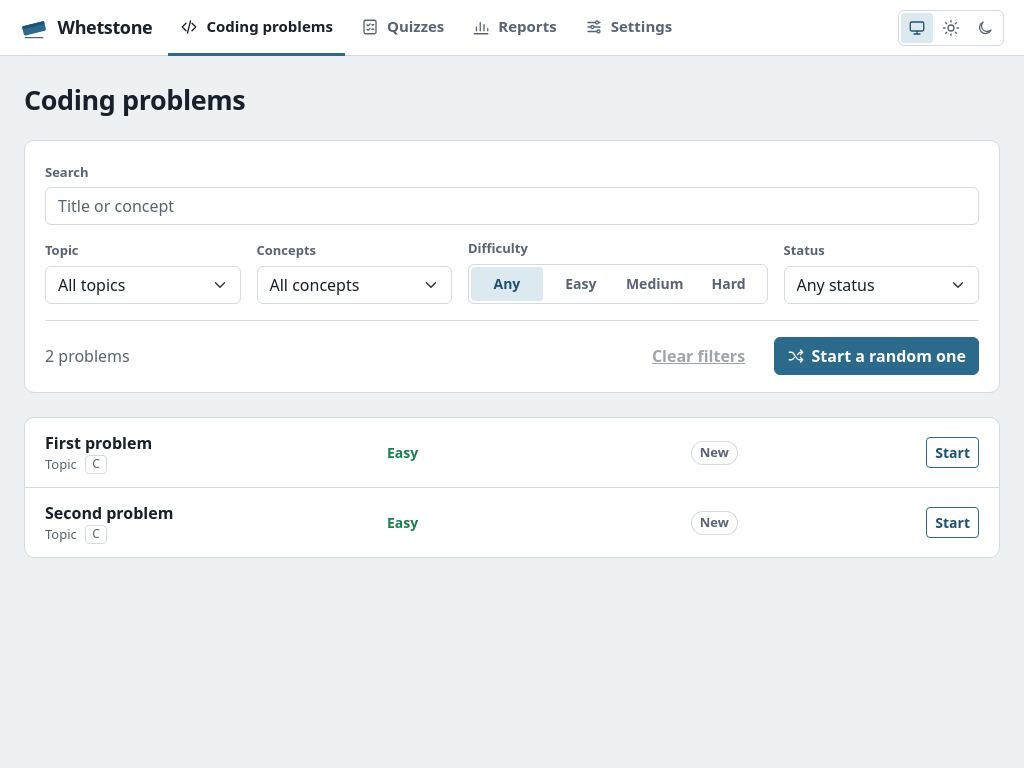
App › shows the output of a run
Click the button with aria-label "Start First problem": [953, 453] box [926,437,979,468]
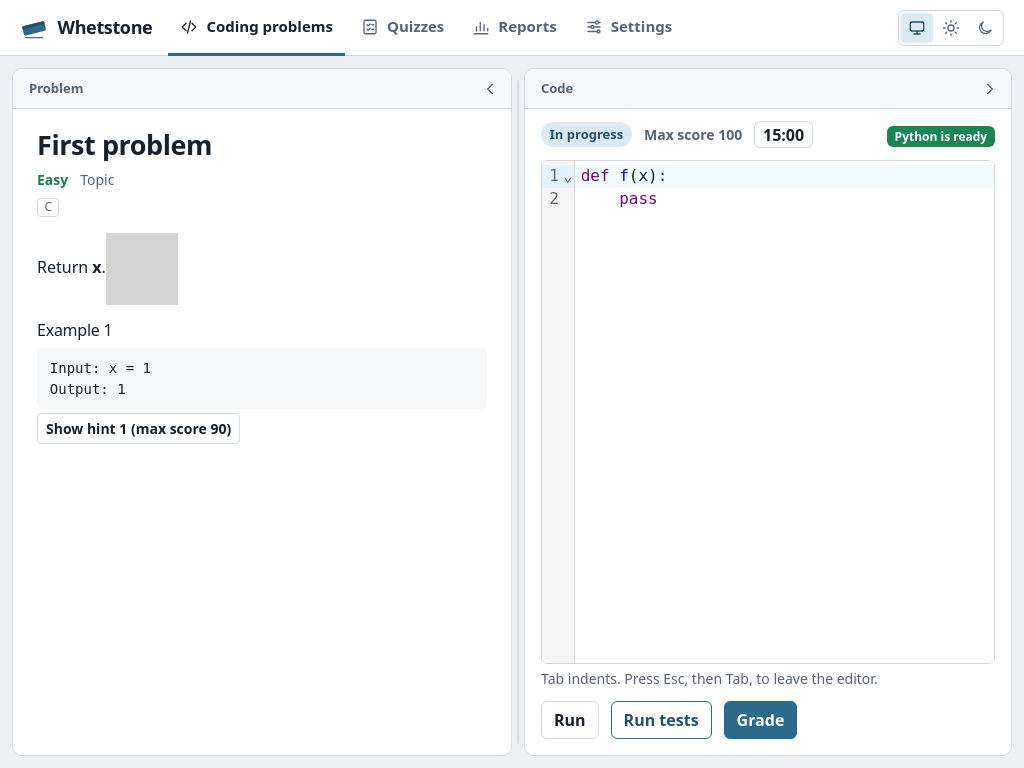
Click the button "Run": [570, 720] box [541,701,599,739]
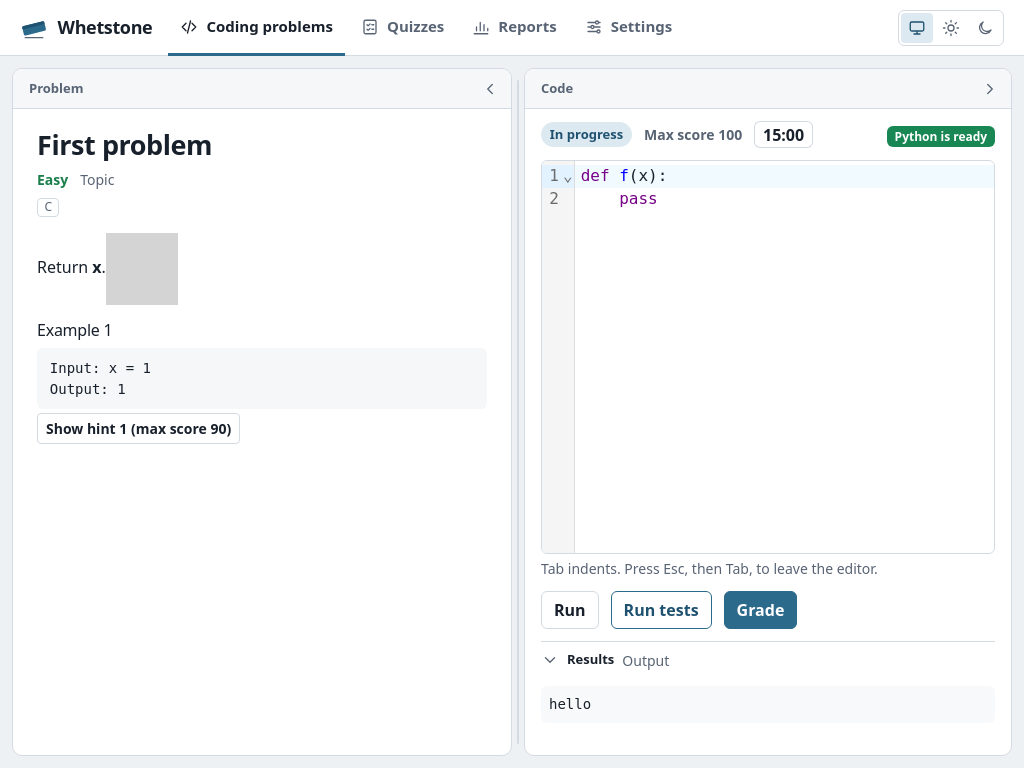
Check: the element named "Output" reads "hello", box [549,696,591,712]
